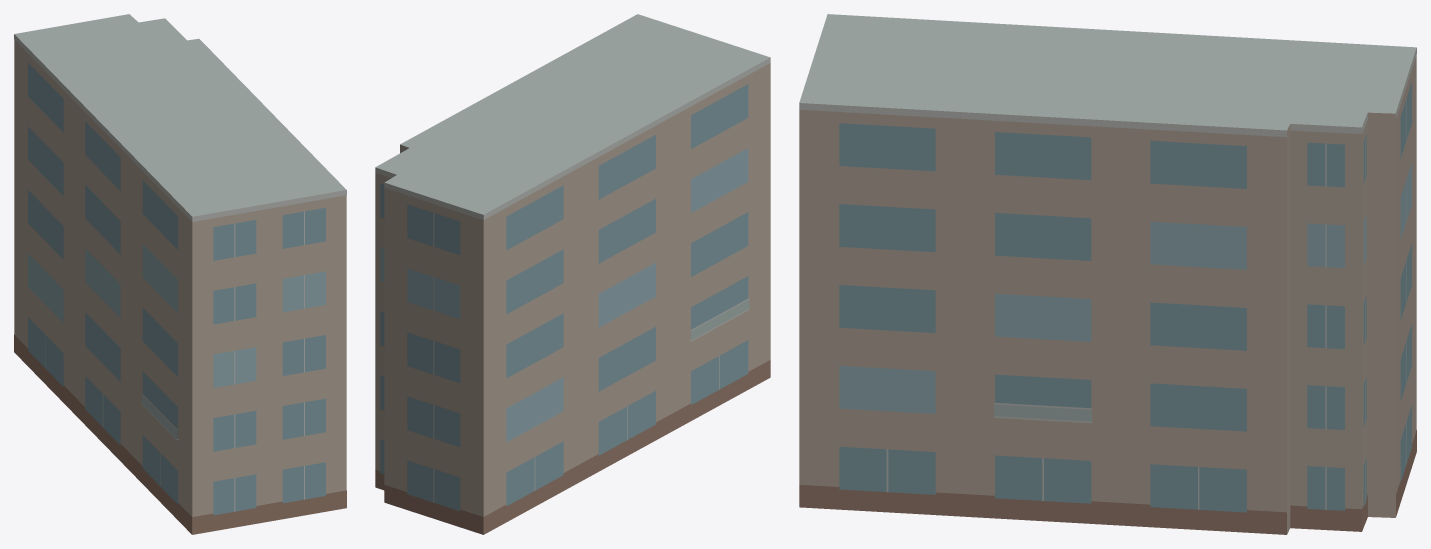
File: survey-upis-33025885.glb
3 views of the same model, side by side, from view 1: azimuth 30°, elevation 25°; view 2: azimuth 150°, elevation 25°; view 3: azimuth 270°, elevation 25° (orthographic). The views are drawn at different scales.
Visible parts, largest first — view 1: survey-upis-33025885.tmp; view 2: survey-upis-33025885.tmp; view 3: survey-upis-33025885.tmp.
Part boxes in pixels (x1,y1,x2,y2): survey-upis-33025885.tmp: [14, 14, 346, 534]; survey-upis-33025885.tmp: [375, 14, 770, 534]; survey-upis-33025885.tmp: [799, 14, 1416, 534].
Size of the model in its own units: 9.09 by 14.7 by 20.36.
